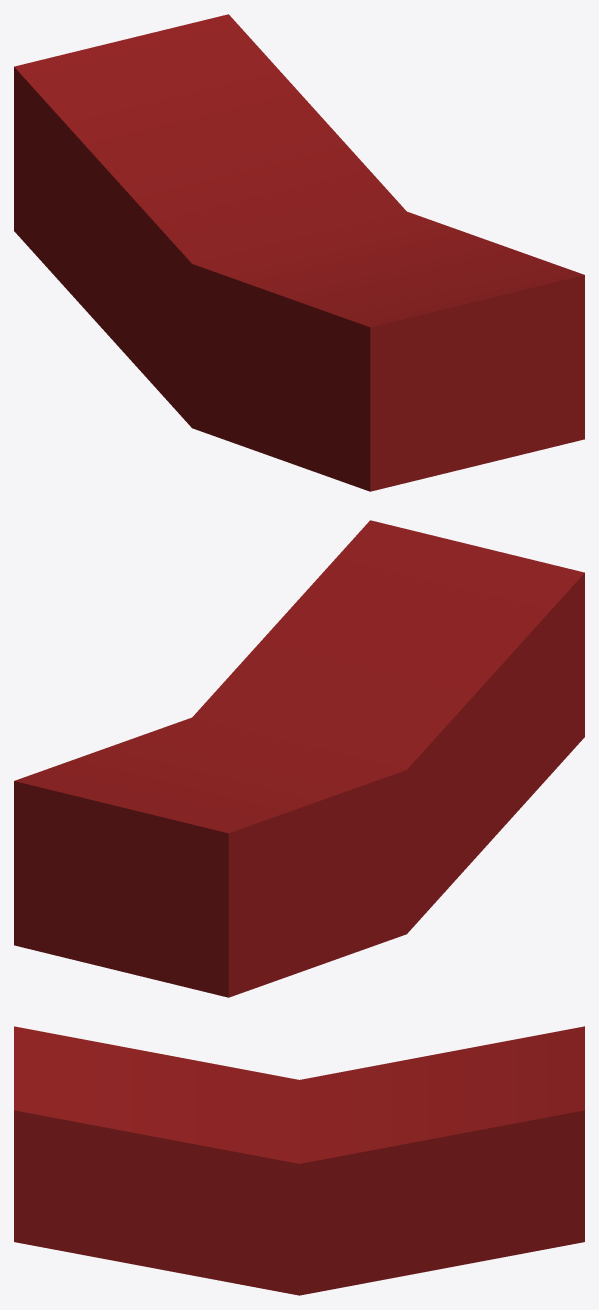
The model's file is stage4 hitter button.fbx.
3 renders of one model, top to bottom at view 1: azimuth 30°, elevation 25°; view 2: azimuth 150°, elevation 25°; view 3: azimuth 270°, elevation 25°, orthographic. The views are drawn at different scales.
Visible parts, largest first — view 1: Object006; view 2: Object006; view 3: Object006.
Part boxes in pixels (left/top/right/bottom): Object006: left=14, top=14, right=584, bottom=491; Object006: left=14, top=520, right=584, bottom=997; Object006: left=14, top=1026, right=584, bottom=1295.
Size of the model in its own units: 2.26 by 6.49 by 2.32.
